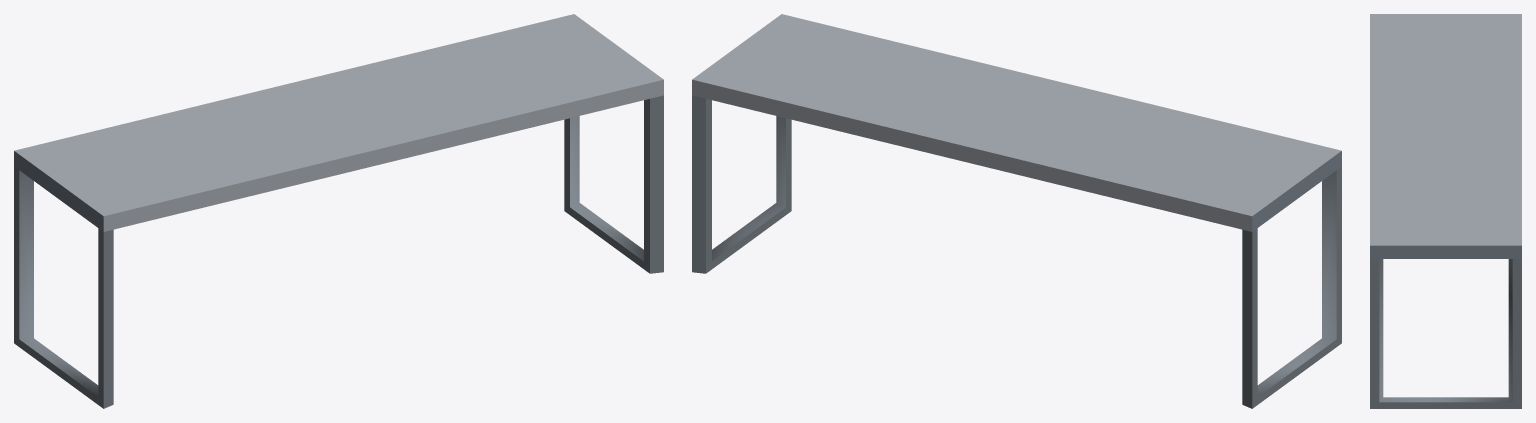
The model's file is Table.fbx.
3 views of the same model, side by side, from view 1: azimuth 30°, elevation 25°; view 2: azimuth 150°, elevation 25°; view 3: azimuth 270°, elevation 25° (orthographic). The views are drawn at different scales.
Visible parts, largest first — view 1: Cube.018; view 2: Cube.018; view 3: Cube.018.
Part boxes in pixels (box(x1,y1,x2,y2)): Cube.018: box(14, 14, 663, 408); Cube.018: box(692, 14, 1341, 408); Cube.018: box(1370, 14, 1521, 408).
Size of the model in its own units: 16.69 by 4.62 by 5.48.
